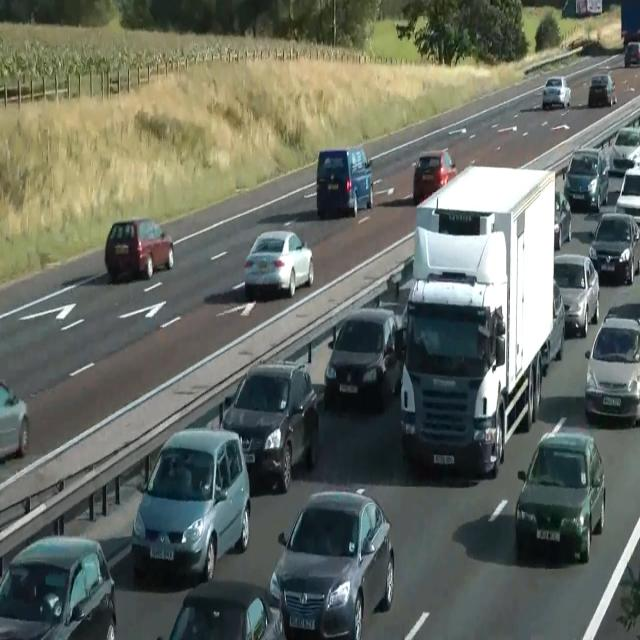bus: (268, 484, 394, 639), (514, 417, 606, 563), (0, 534, 116, 639), (323, 306, 403, 411), (157, 580, 286, 639), (584, 316, 640, 426), (244, 229, 314, 299), (104, 217, 174, 282), (553, 253, 599, 338), (588, 212, 640, 284), (563, 147, 609, 210), (412, 147, 456, 205), (540, 278, 565, 375), (0, 379, 29, 462), (610, 126, 640, 176), (615, 166, 639, 225), (554, 189, 572, 250), (542, 76, 571, 110), (588, 73, 616, 107), (603, 302, 639, 324), (624, 42, 640, 68), (626, 144, 640, 168), (622, 28, 640, 46)
jeep: (131, 427, 251, 581), (219, 359, 319, 493), (315, 145, 373, 218)
minibus: (399, 164, 556, 476)
